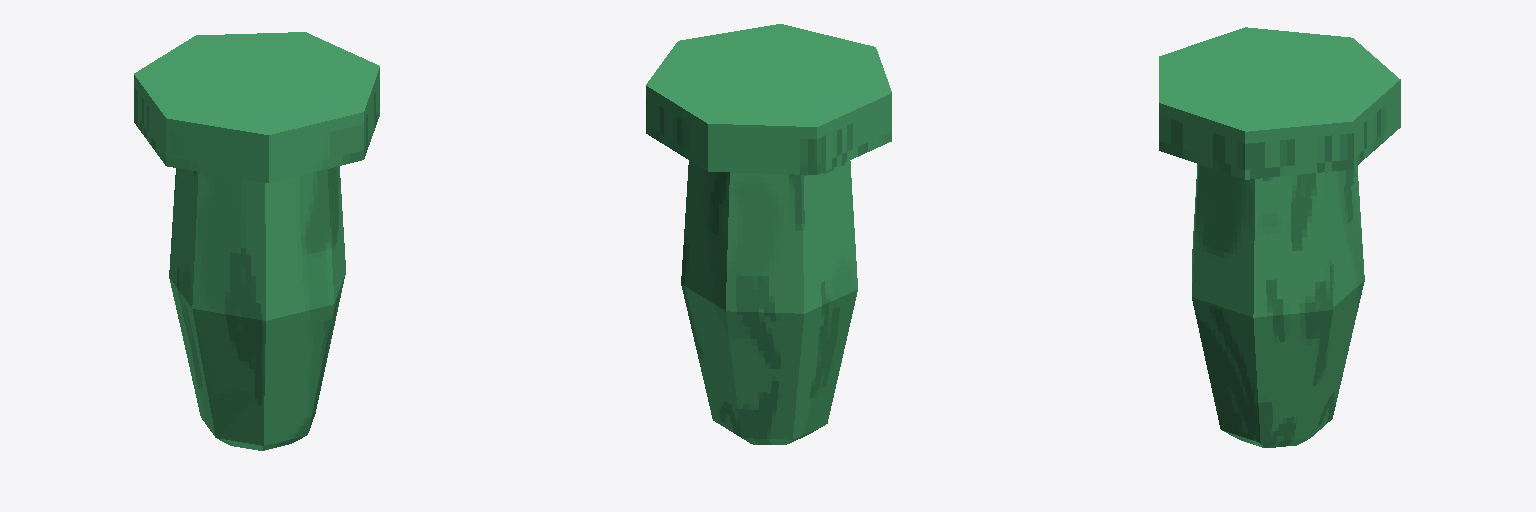
3 views of the same model, side by side, from view 1: azimuth 30°, elevation 25°; view 2: azimuth 150°, elevation 25°; view 3: azimuth 270°, elevation 25° (orthographic).
Parts seen in each view (by area): view 1: Cylinder; view 2: Cylinder; view 3: Cylinder.
Boxes of the visible parts, <box> form: Cylinder: <box>134,32,379,450</box>; Cylinder: <box>646,24,891,444</box>; Cylinder: <box>1159,27,1400,447</box>.
Bounding box in the file's own units: 3.04 × 4.79 × 2.96.
Materials: 1 (1 with a texture image).